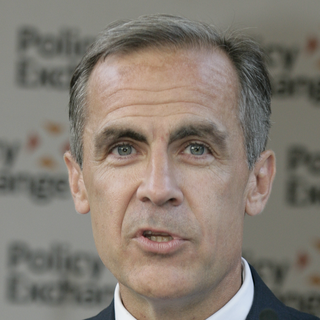eye: (173, 138, 220, 164), (100, 136, 145, 163)
